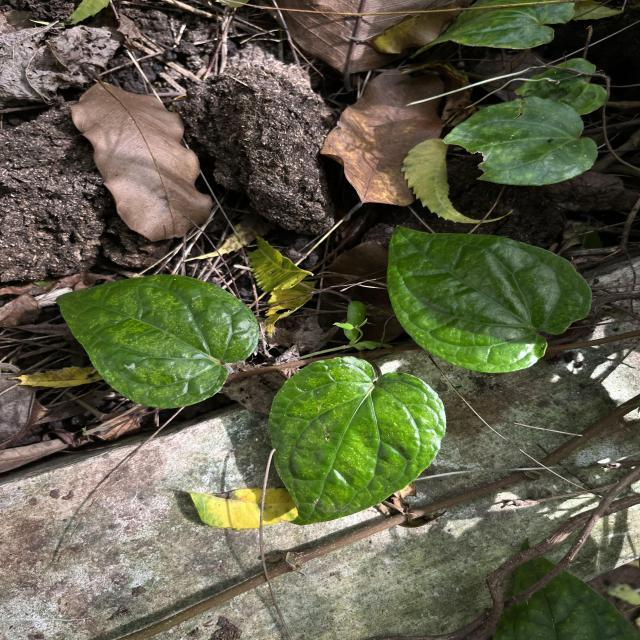Piper betle: (384, 222, 596, 374), (266, 353, 448, 528), (54, 272, 261, 410)
